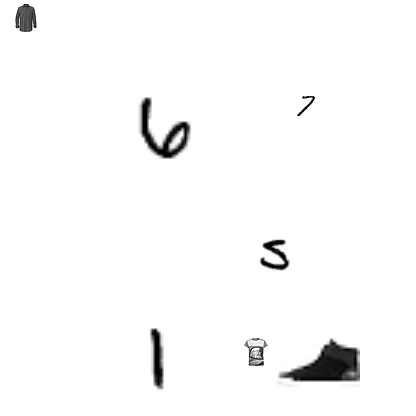1: (115, 314, 199, 398)
5: (254, 234, 296, 276)
6: (118, 92, 202, 176)
7: (292, 90, 320, 118)
Shirt: (12, 4, 40, 32)
Sneaker: (276, 321, 360, 405)
T-shirt/top: (242, 338, 270, 366)
